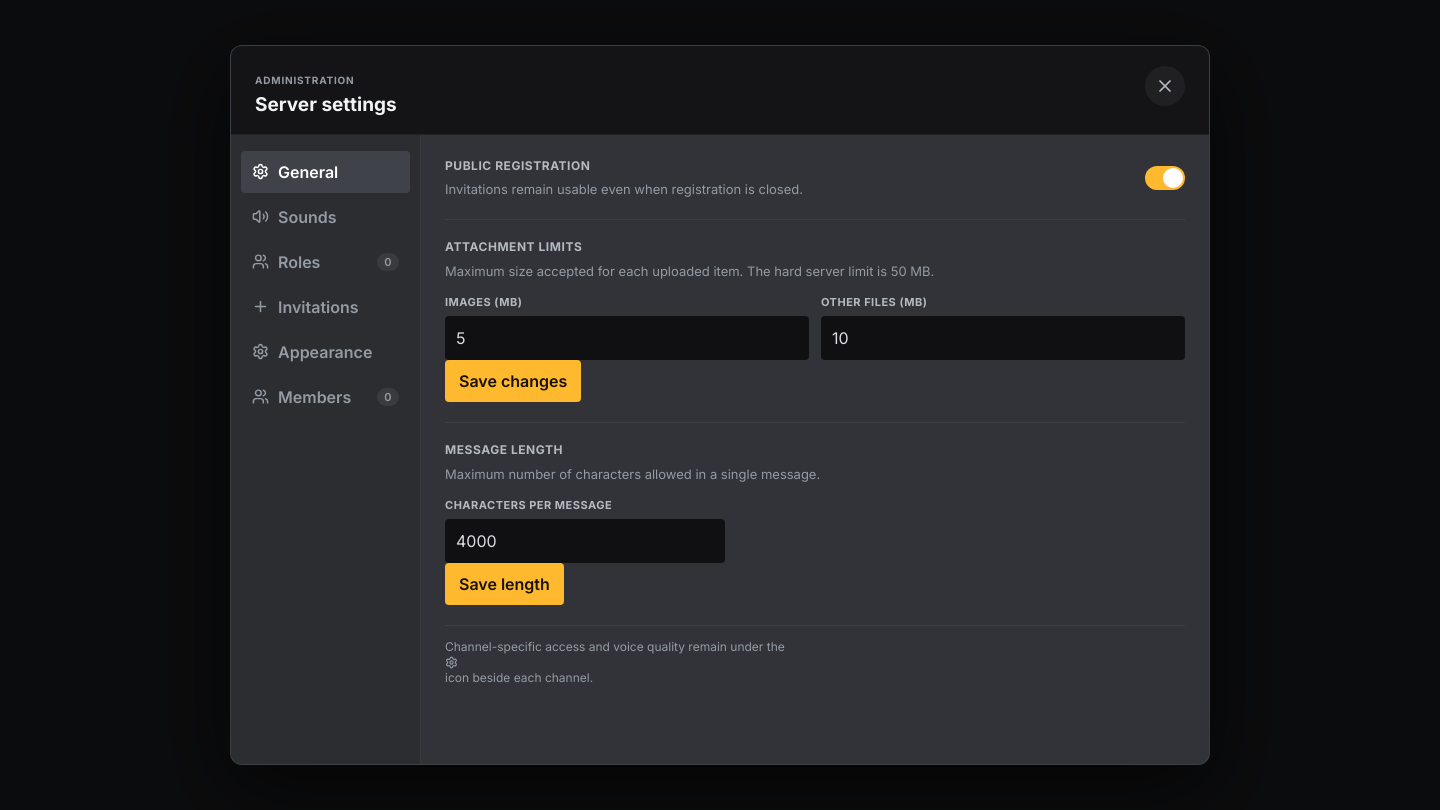
AdminPanel moderation › force-mutes a user and exposes the persistent status
The width and height of the screenshot is (1440, 810).
Click the button "Members 0" at coordinates (326, 397), box [241, 376, 410, 418]
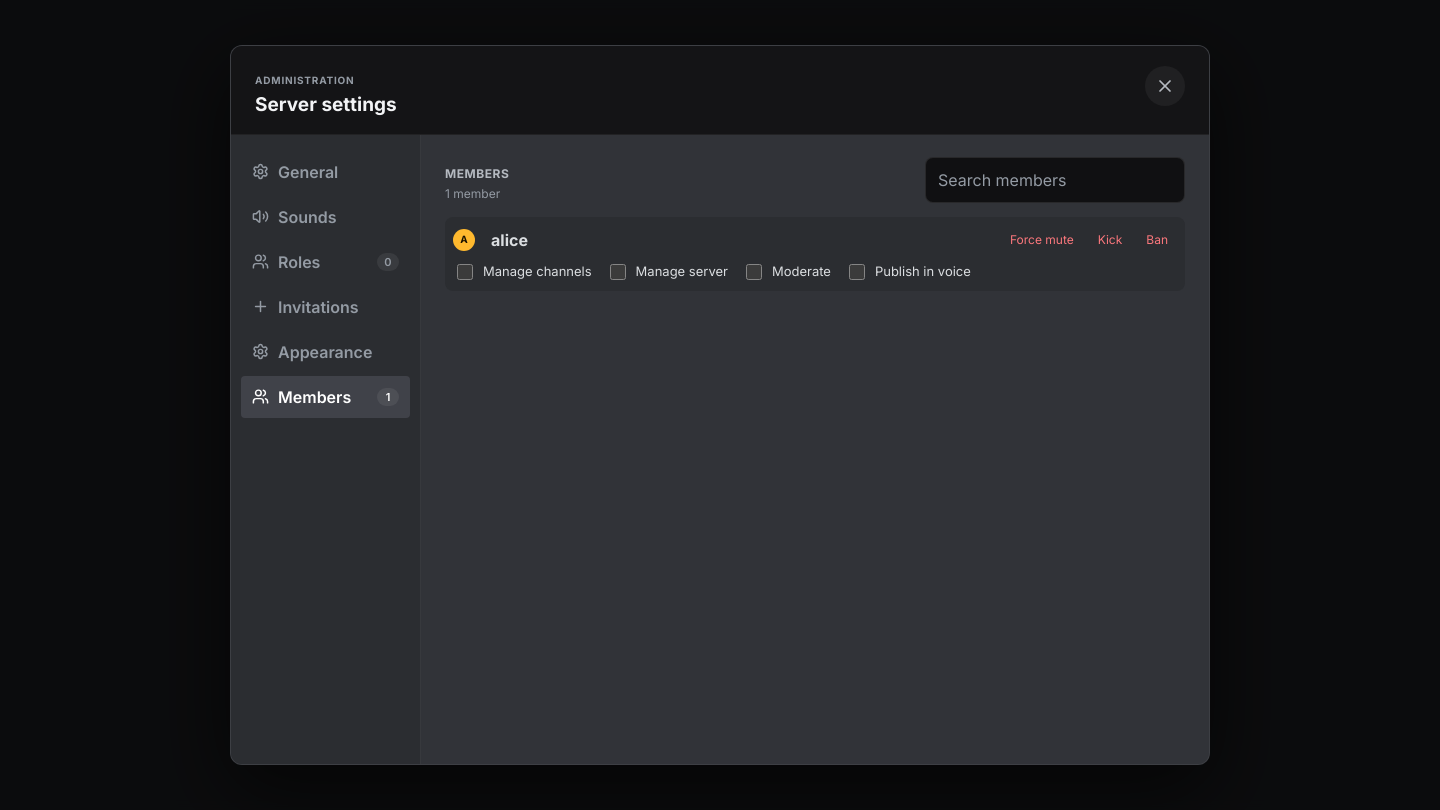
Click the button "Force mute" at coordinates (1042, 240), box [1001, 225, 1083, 255]
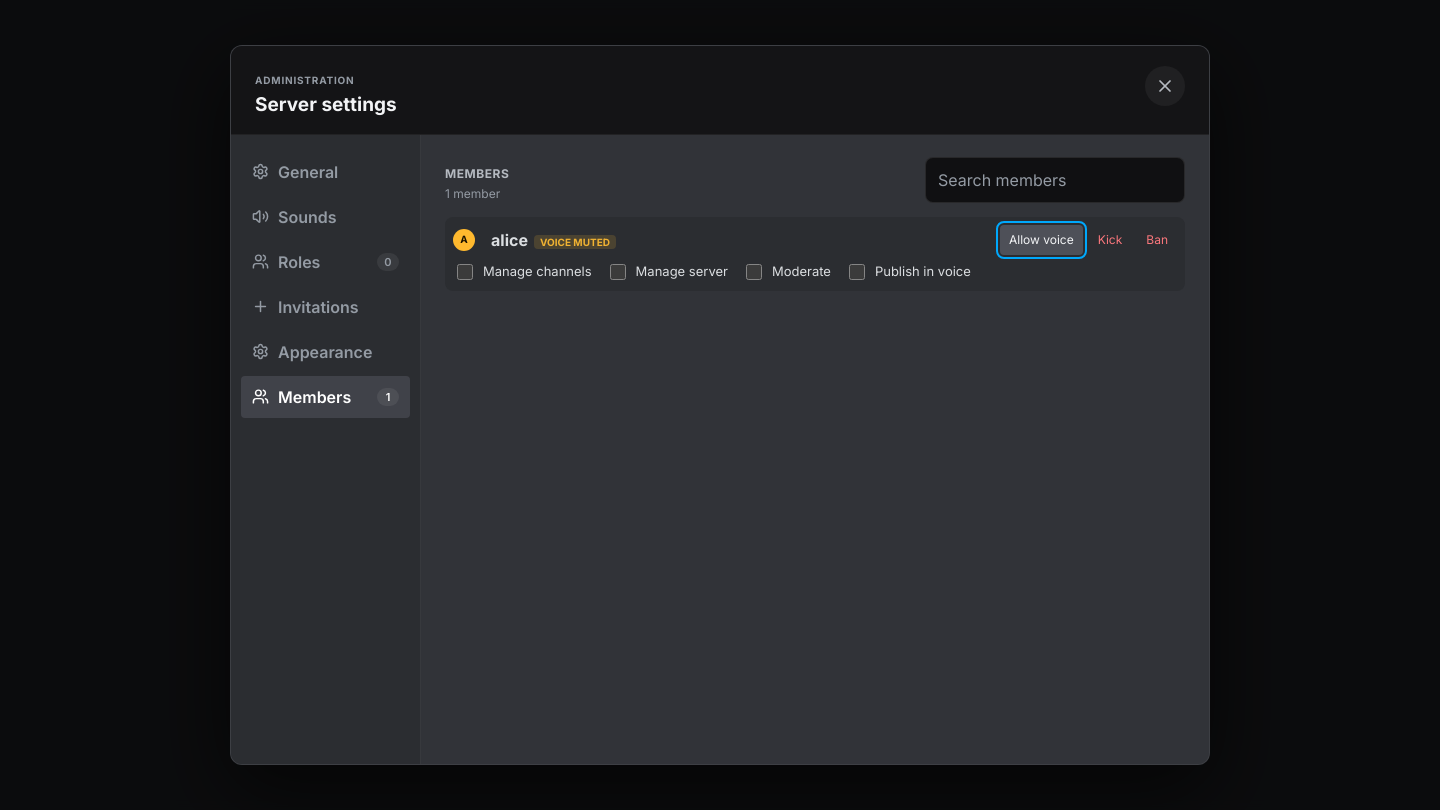
Expected: the text "Voice muted" is shown, [534, 235, 616, 249]
Expected: the button "Allow voice" is shown, [1000, 225, 1083, 255]
